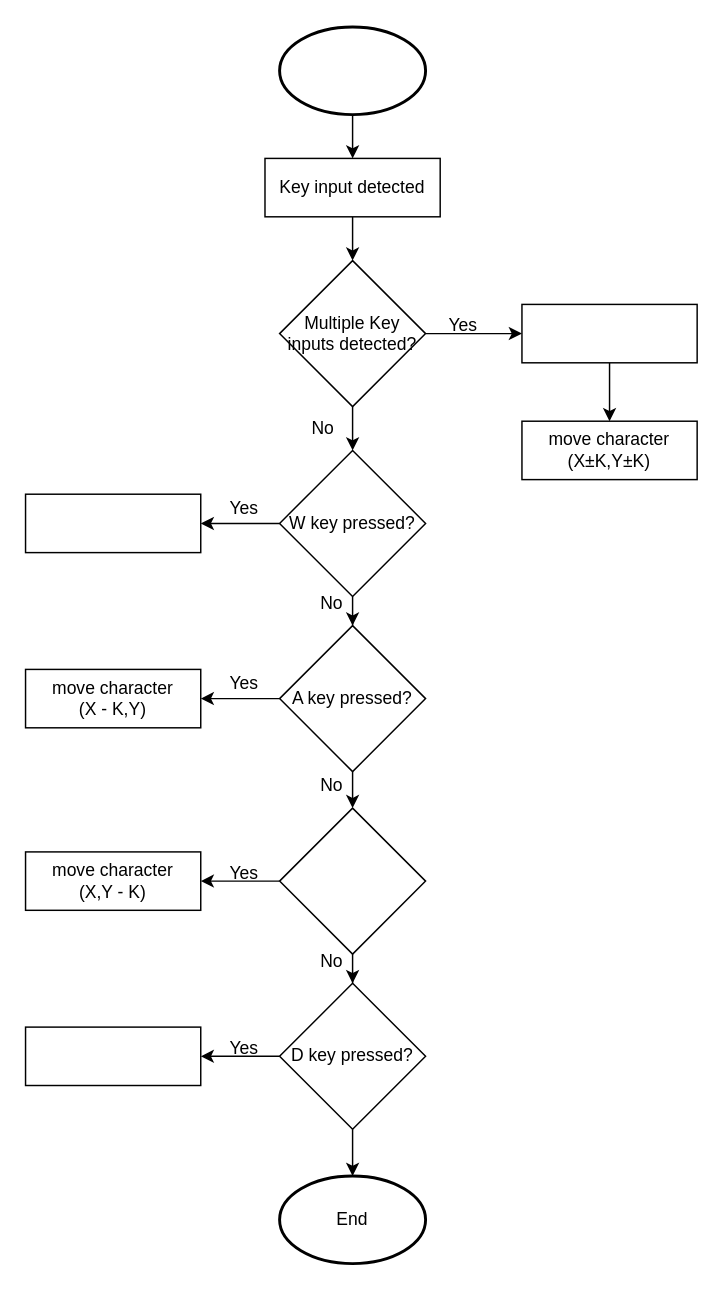
This 723x1289 diagram has some shape labels left out. The shapes that lost their labels are listed below. From the top down, each one's centre as x and y in pixels, then its label:
At point (351, 70): "Character Walking".
At point (608, 333): "Check which keys detected".
At point (112, 523): "move character (X,Y + K)".
At point (352, 880): "S key pressed?".
At point (112, 1056): "move character (X + K,Y)".
